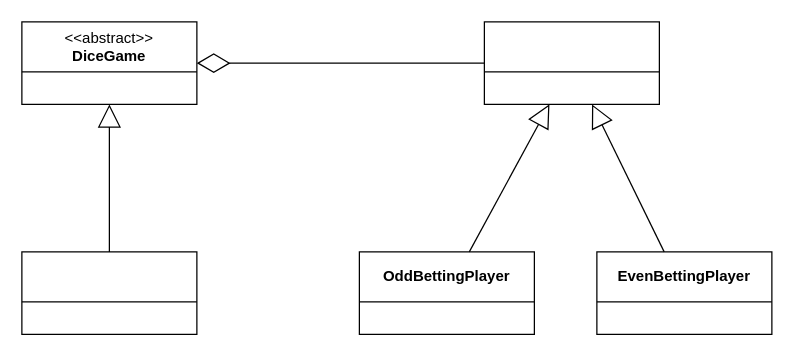
This 794x356 diagram has some shape labels left out. The centre of each missing label's shape, as x and y in pixels:
<<abstract>> Player: the point at 571,62
FairDiceGame: the point at 109,292
